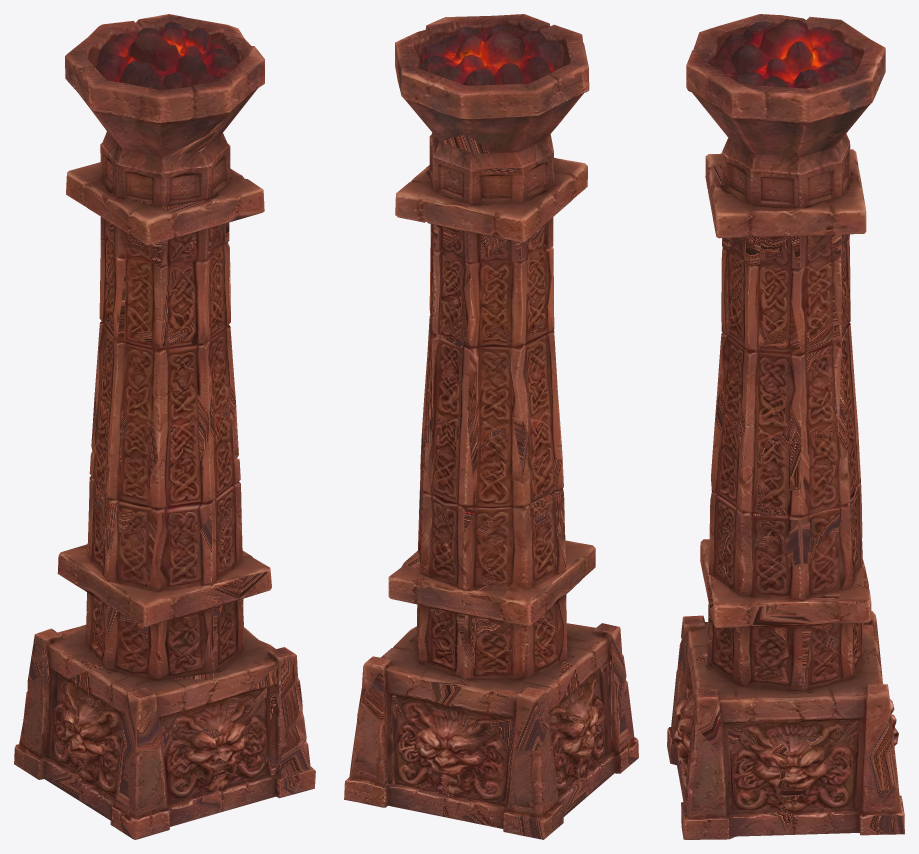
The model's file is prop_lava_pillar.7c9c6a8b.glb.
The picture shows the model from 3 angles, left to right: view 1: azimuth 30°, elevation 25°; view 2: azimuth 150°, elevation 25°; view 3: azimuth 270°, elevation 25°; orthographic projection. The views are drawn at different scales.
Parts seen in each view (by area): view 1: tripo_node_0ba067d3-5f74-4154-9cd9-8b2b495054a2; view 2: tripo_node_0ba067d3-5f74-4154-9cd9-8b2b495054a2; view 3: tripo_node_0ba067d3-5f74-4154-9cd9-8b2b495054a2.
Boxes of the visible parts, <box> form: tripo_node_0ba067d3-5f74-4154-9cd9-8b2b495054a2: <box>14,14,315,839</box>; tripo_node_0ba067d3-5f74-4154-9cd9-8b2b495054a2: <box>344,14,638,839</box>; tripo_node_0ba067d3-5f74-4154-9cd9-8b2b495054a2: <box>667,14,904,839</box>.
Size of the model in its own units: 3.7 by 13 by 3.69.
1 material, 1 textured.
